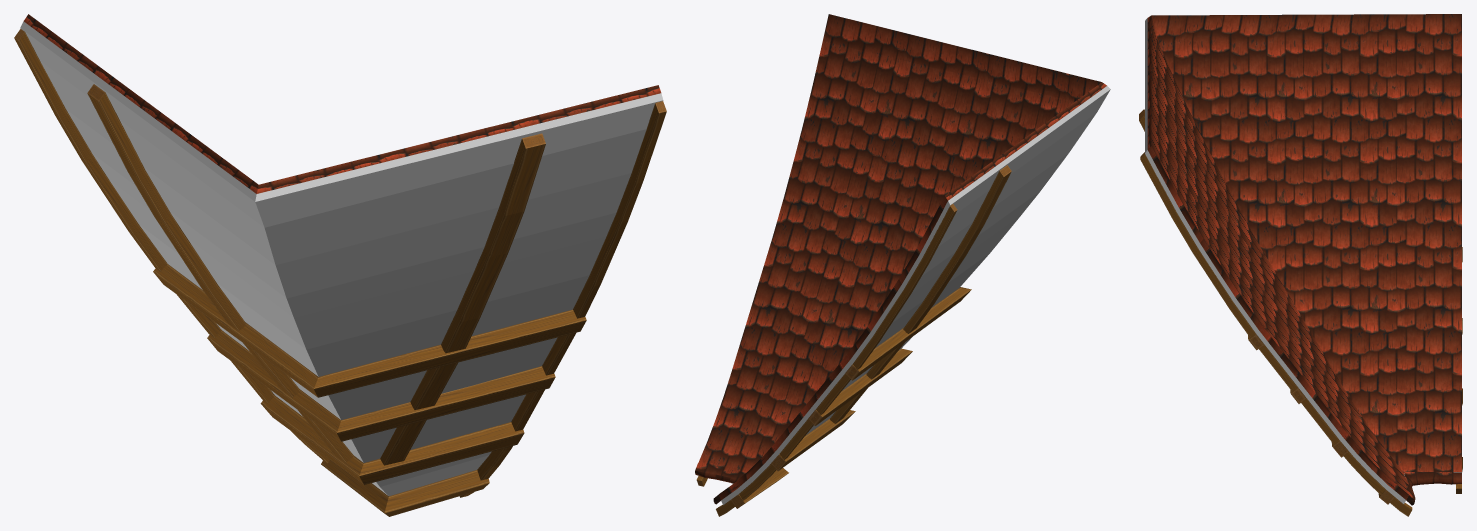
The model's file is SM_House_Roof_02_Corner_Inner.fbx.
3 renders of one model, left to right at view 1: azimuth 30°, elevation 25°; view 2: azimuth 150°, elevation 25°; view 3: azimuth 270°, elevation 25°, orthographic. The views are drawn at different scales.
Parts seen in each view (by area): view 1: SM_House_Roof_02_Corner_Inner; view 2: SM_House_Roof_02_Corner_Inner; view 3: SM_House_Roof_02_Corner_Inner.
Boxes of the visible parts, left/top/right/bottom form: SM_House_Roof_02_Corner_Inner: left=14, top=14, right=666, bottom=516; SM_House_Roof_02_Corner_Inner: left=695, top=14, right=1110, bottom=516; SM_House_Roof_02_Corner_Inner: left=1139, top=14, right=1462, bottom=516.
Bounding box in the file's own units: 7.61 × 9.64 × 7.62.
